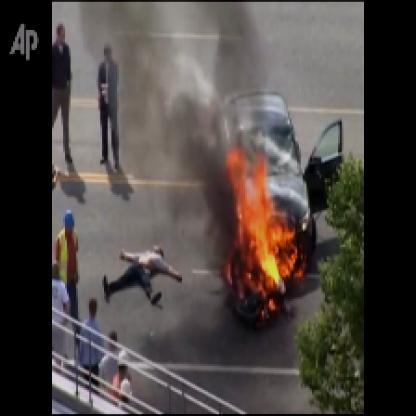Fire: (212, 138, 308, 323)
Smoke: (82, 2, 260, 254)
